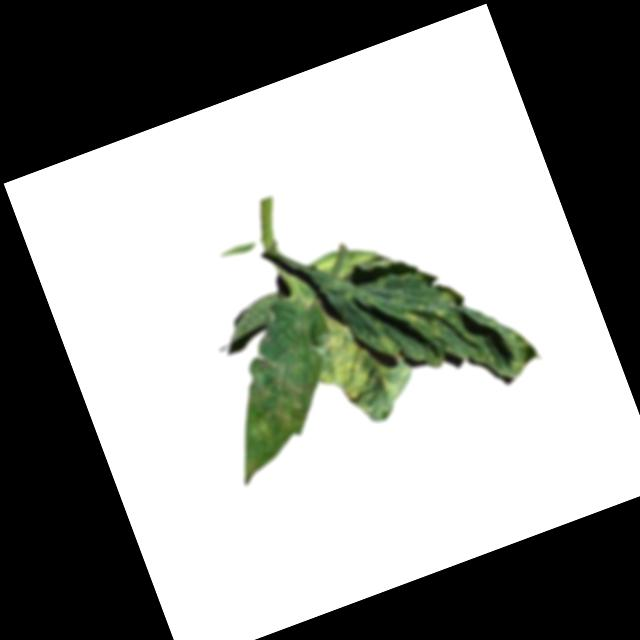Leaf_Mold: (197, 320, 341, 485), (390, 261, 543, 410), (291, 286, 417, 423)
